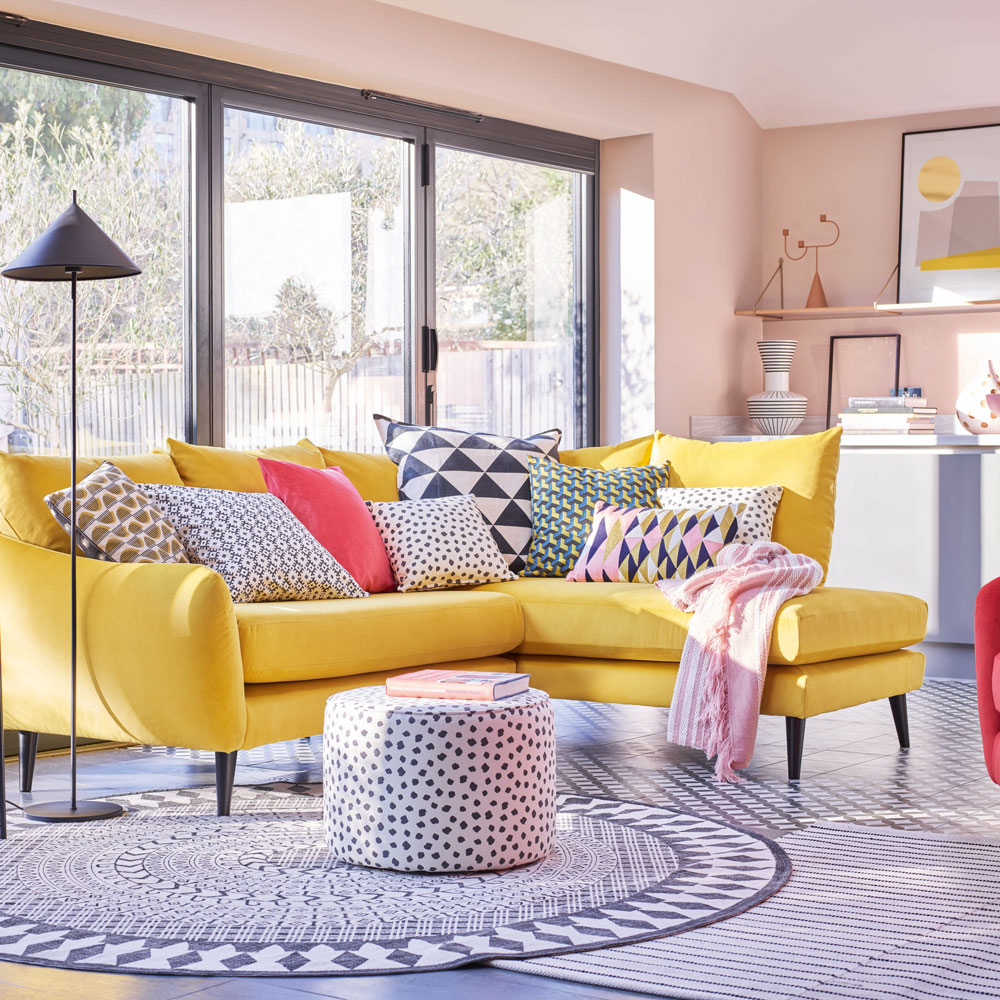hitam: (7, 216, 138, 282)
kuning: (1, 433, 827, 753)
merah: (976, 578, 1000, 778)
pink: (262, 463, 392, 588), (682, 586, 766, 767)
